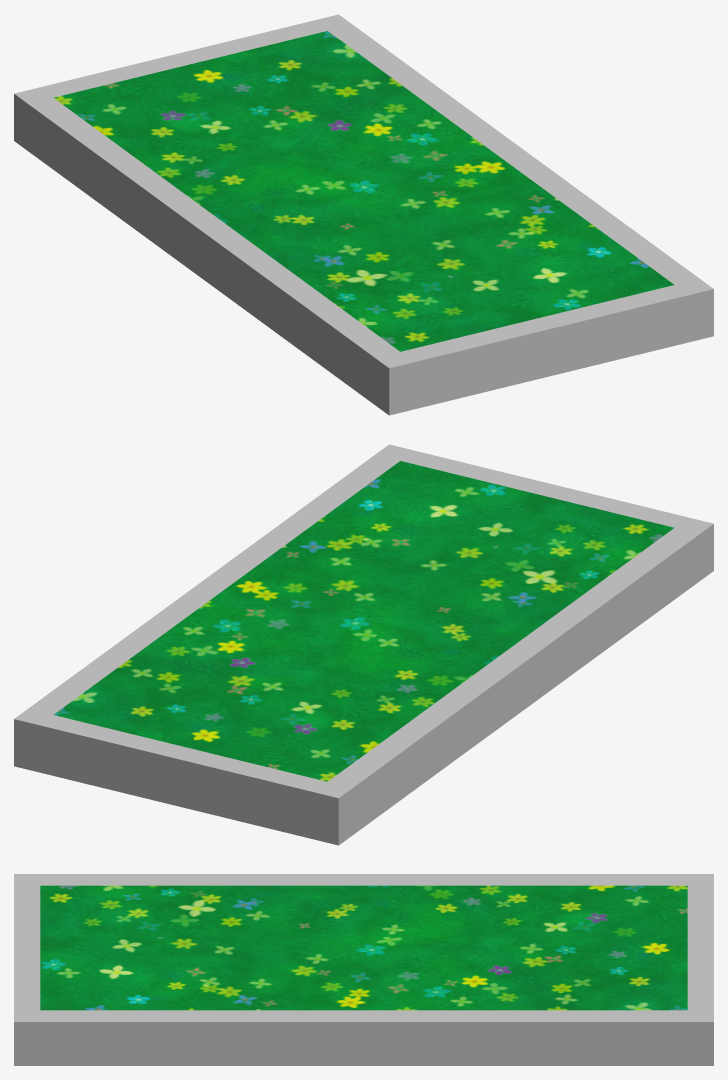
The model's file is Plant02_b05.FBX.
3 renders of one model, top to bottom at view 1: azimuth 30°, elevation 25°; view 2: azimuth 150°, elevation 25°; view 3: azimuth 270°, elevation 25°, orthographic. The views are drawn at different scales.
Visible parts, largest first — view 1: Plant02_b05; view 2: Plant02_b05; view 3: Plant02_b05.
Part boxes in pixels (<box>): Plant02_b05: <box>14,14,713,415</box>; Plant02_b05: <box>14,444,713,845</box>; Plant02_b05: <box>14,874,713,1065</box>.
Size of the model in its own units: 339 by 47.09 by 678.
